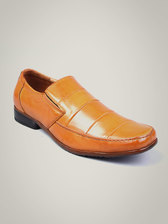shoes: (13, 65, 159, 157)
